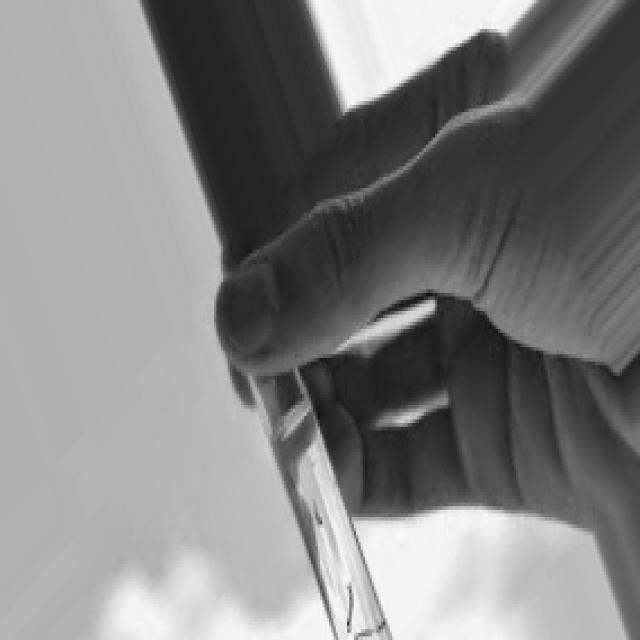larvas: (357, 619, 388, 640), (346, 587, 354, 634), (312, 506, 327, 523)
